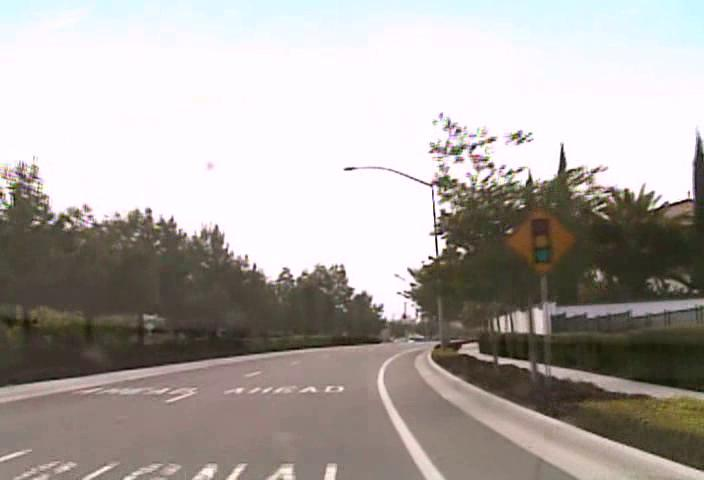signalAhead: (505, 203, 576, 275)
